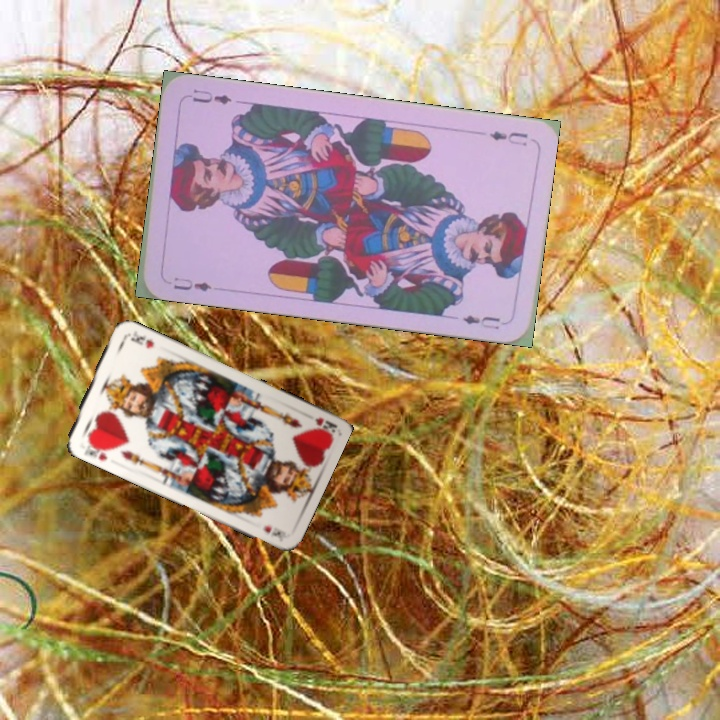EU: (485, 127, 531, 149), (169, 273, 215, 294)
HK: (83, 436, 113, 463), (311, 413, 337, 436)
